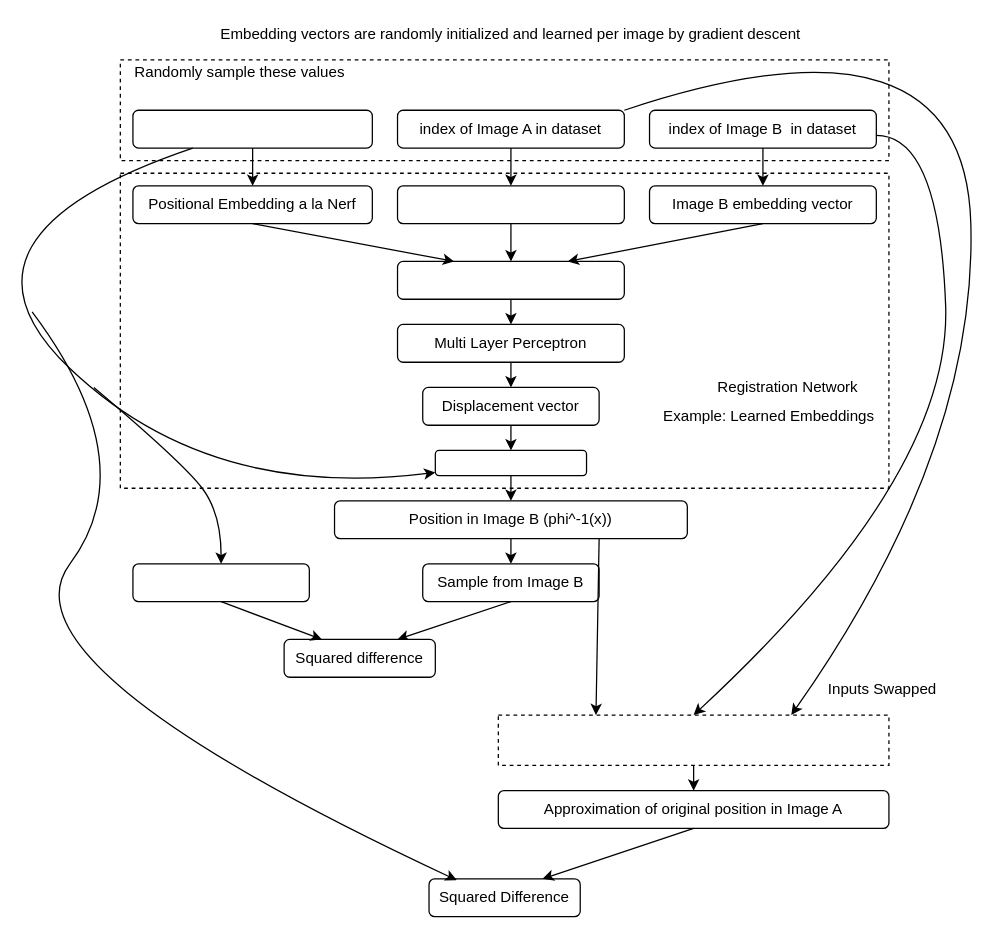
The diagram is 994 pixels wide and 939 high, and some of its shapes have lost their labels. The centre of each missing label's shape, as x and y in pixels:
Concatenate: (510,279)
Image A embedding vector: (510,204)
Position in Image A (x): (252,128)
Sample from Image A: (220,582)
Second copy of registration network: (693,739)
Sum: (510,462)
